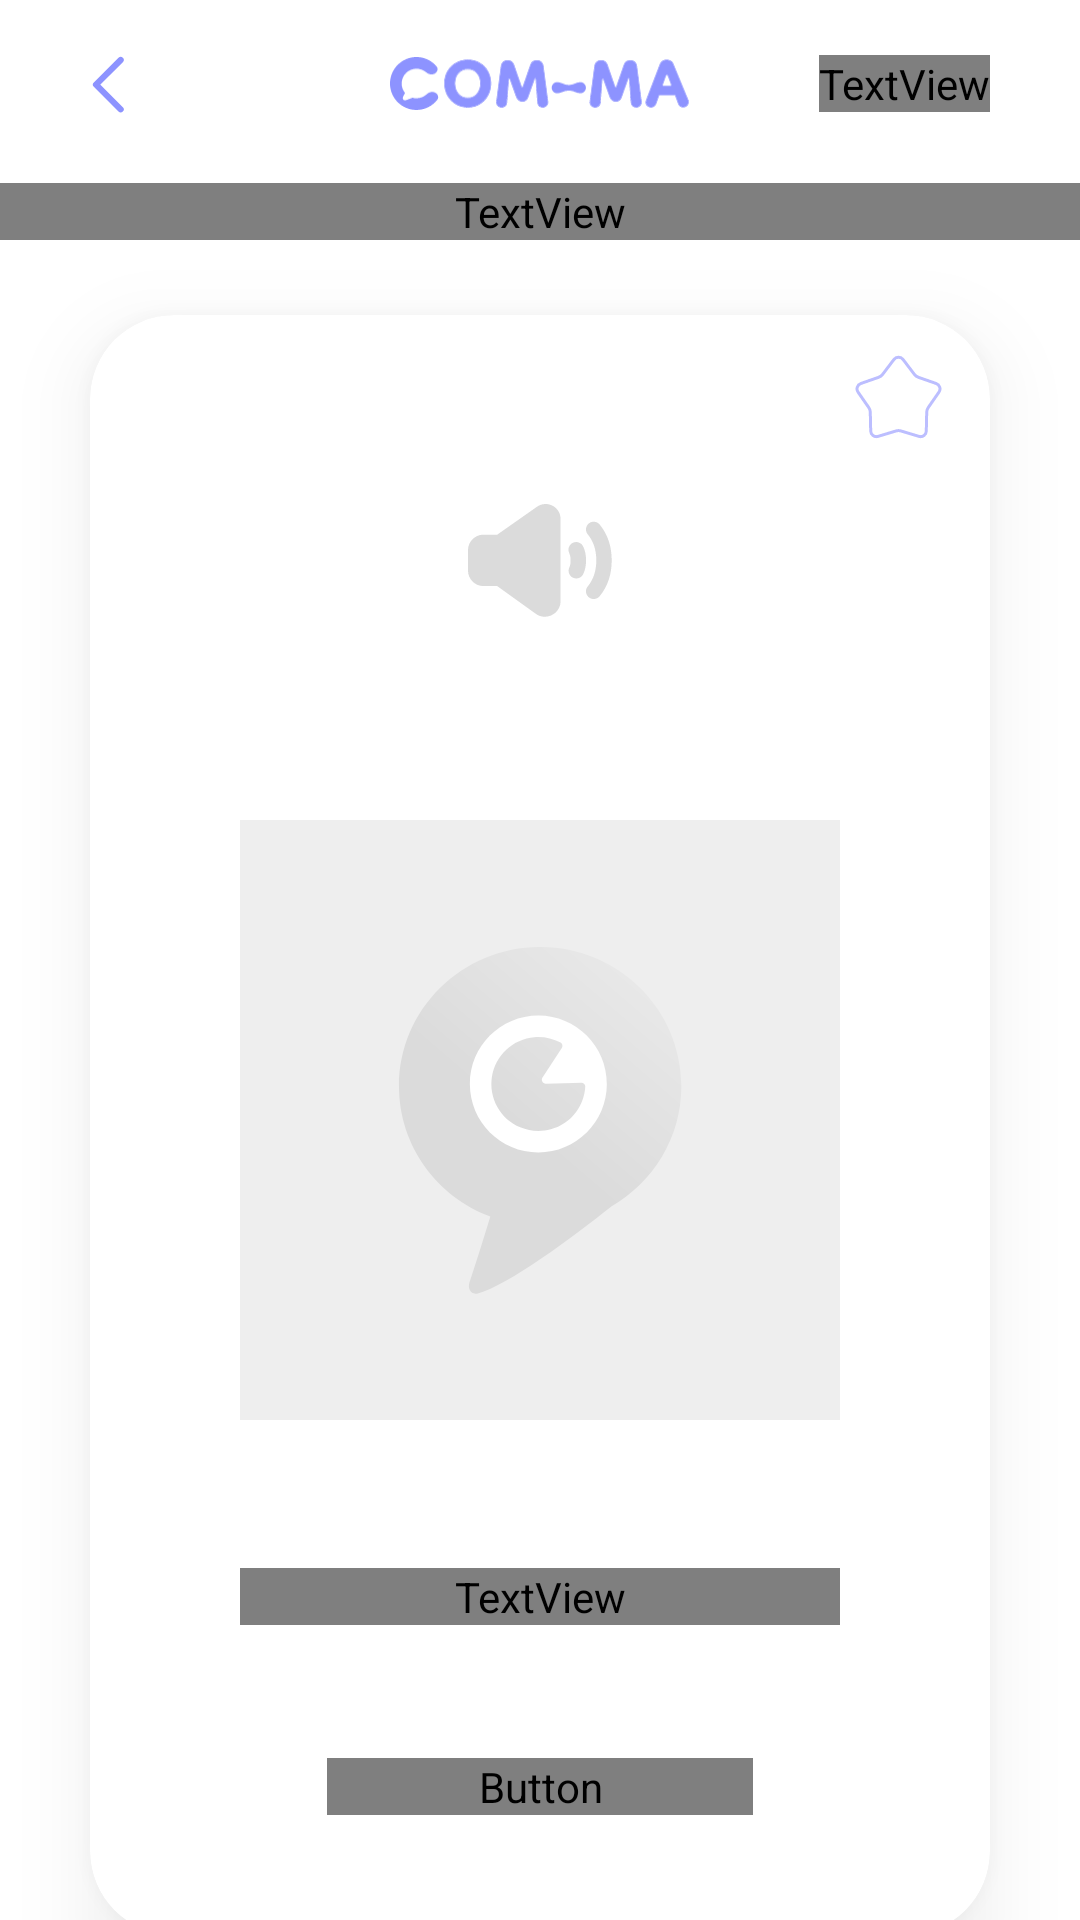

Screen size 1080px×1920px. Icon name, then its box in pixels as BBox(x1, y1, x2, y2):
arrow left: BBox(93, 57, 124, 113)
word card speaker: BBox(468, 504, 612, 617)
